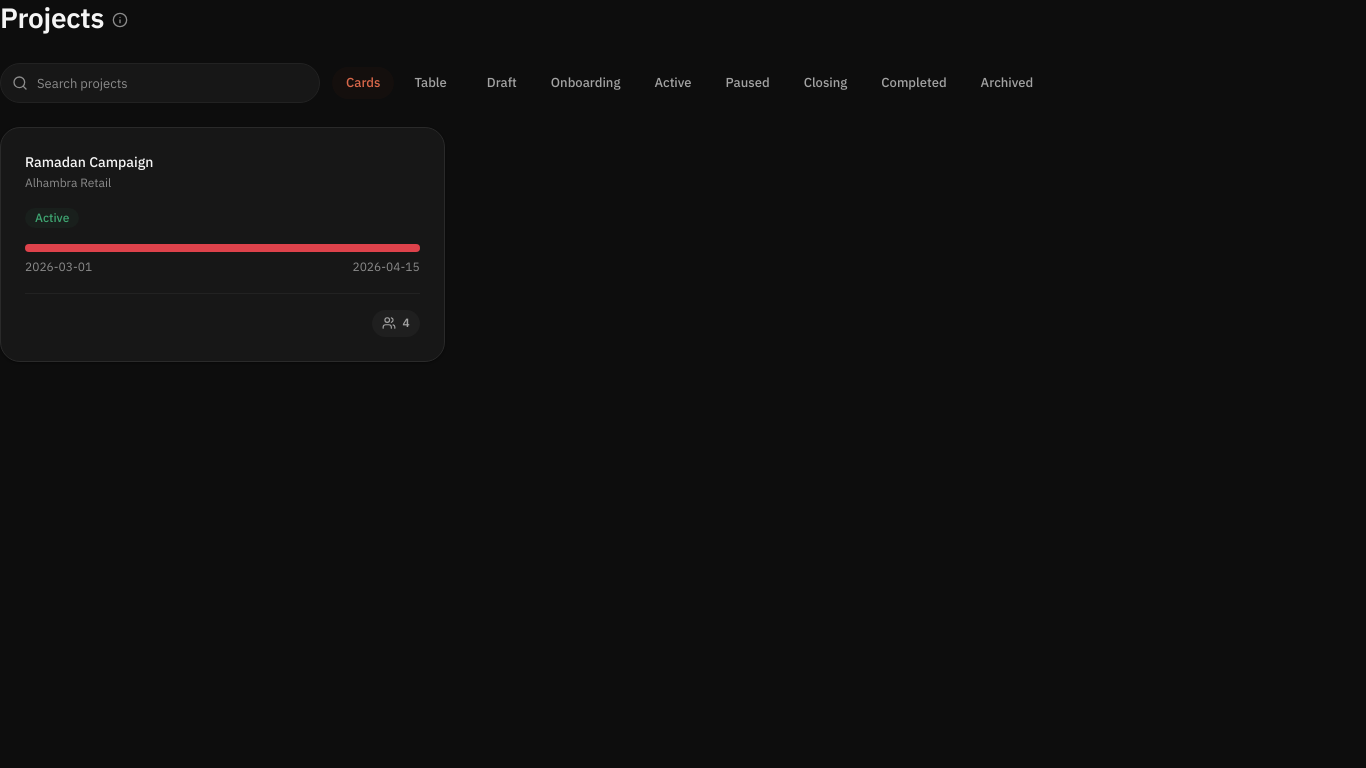
Test: who can see a project › says what an empty project means
Click the button named "Manage access" at point(396, 323), box [372,310,420,337]
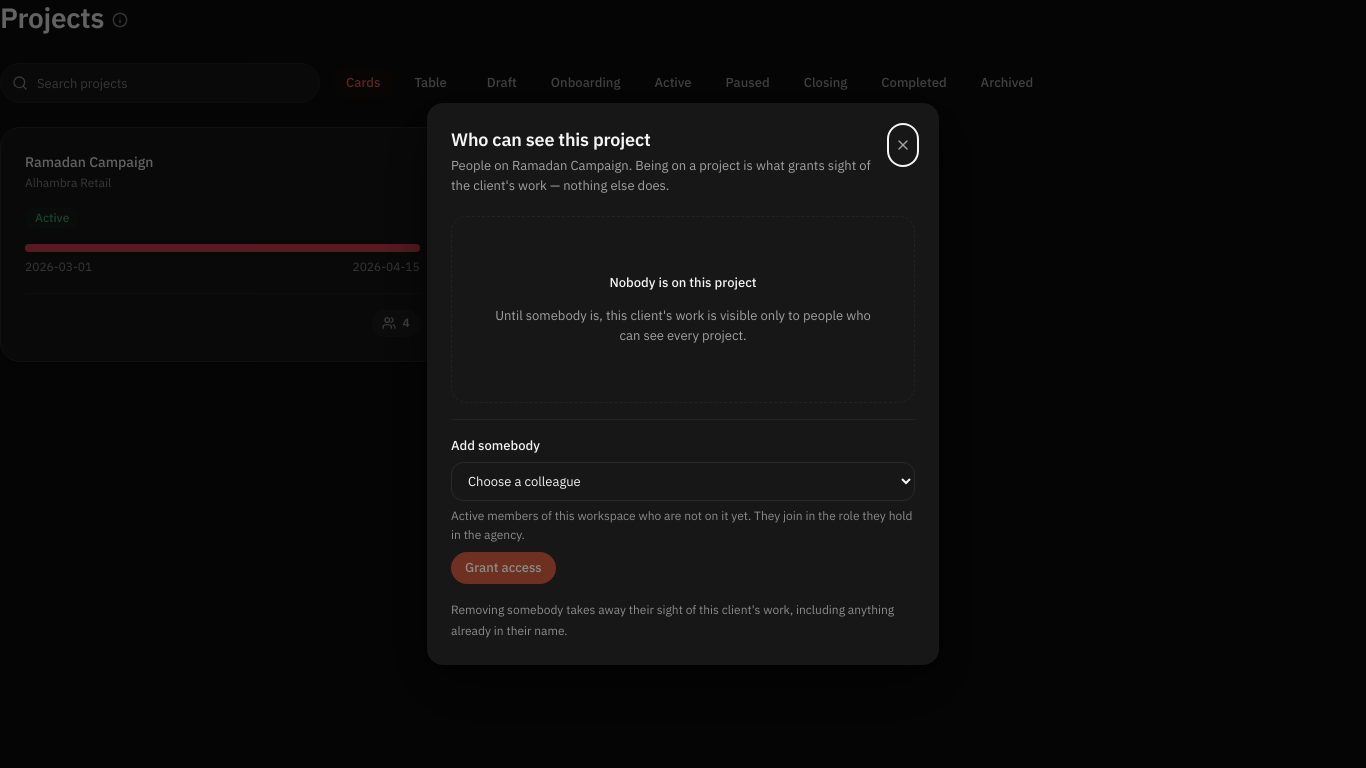
expect the text "Nobody is on this project" is shown: met, box [609,274,757,294]
